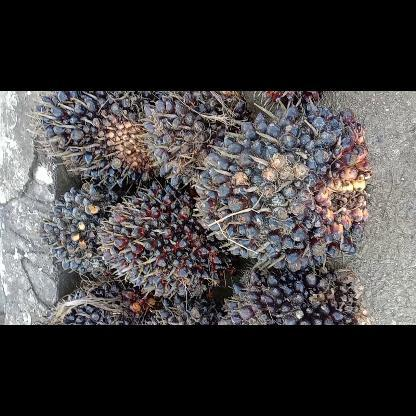TBS mentah: (194, 100, 372, 270), (98, 180, 240, 300), (31, 91, 183, 189), (144, 92, 250, 192), (218, 256, 368, 324), (40, 180, 132, 278)
